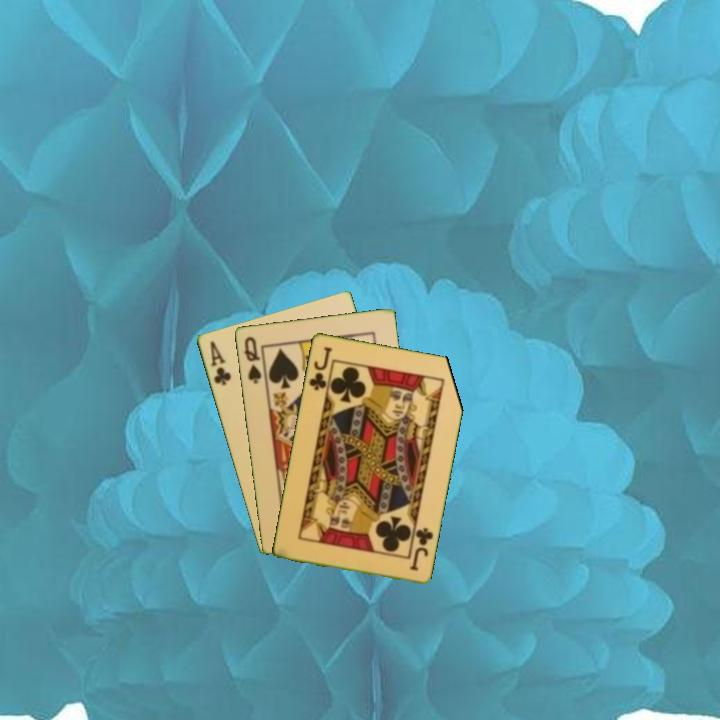Ac: (206, 337, 234, 388)
Jc: (305, 343, 335, 393), (406, 523, 436, 573)
Qs: (240, 333, 264, 386)
